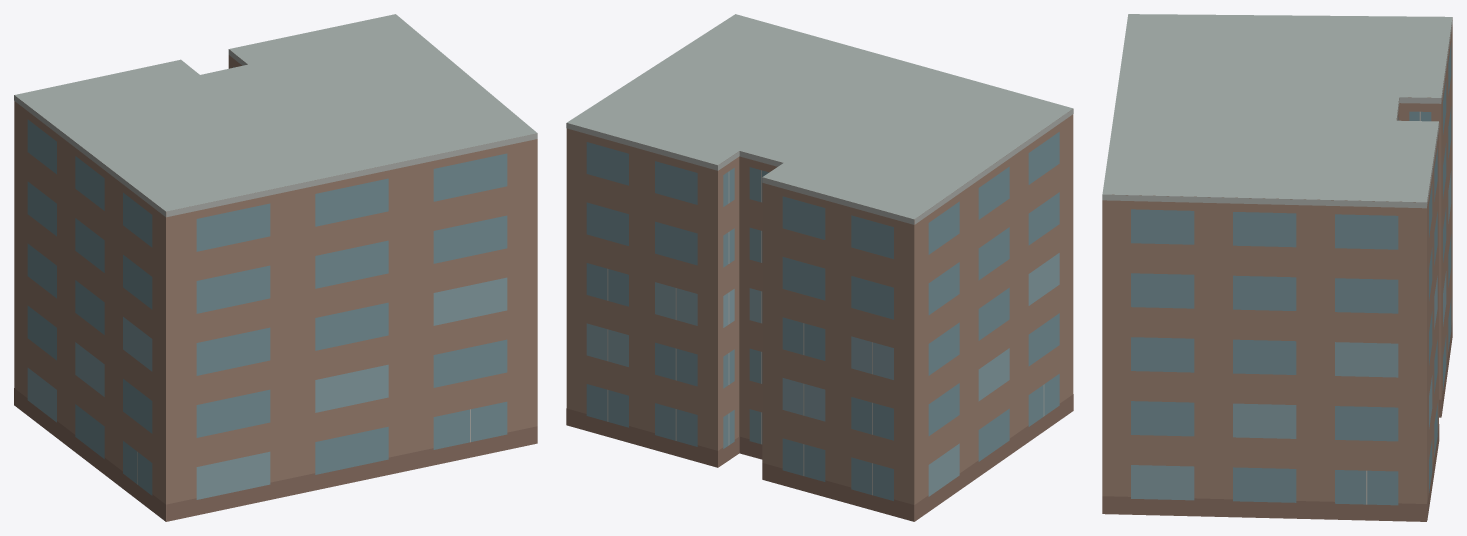
Rendered from survey-upis-32893639.glb.
3 views of the same model, side by side, from view 1: azimuth 30°, elevation 25°; view 2: azimuth 150°, elevation 25°; view 3: azimuth 270°, elevation 25° (orthographic). The views are drawn at different scales.
Visible parts, largest first — view 1: survey-upis-32893639.tmp; view 2: survey-upis-32893639.tmp; view 3: survey-upis-32893639.tmp.
Boxes of the visible parts, x1,y1,x2,y2 form: survey-upis-32893639.tmp: [14, 14, 537, 521]; survey-upis-32893639.tmp: [566, 14, 1073, 521]; survey-upis-32893639.tmp: [1102, 14, 1452, 521].
Size of the model in its own units: 16.76 by 13.25 by 13.17.
